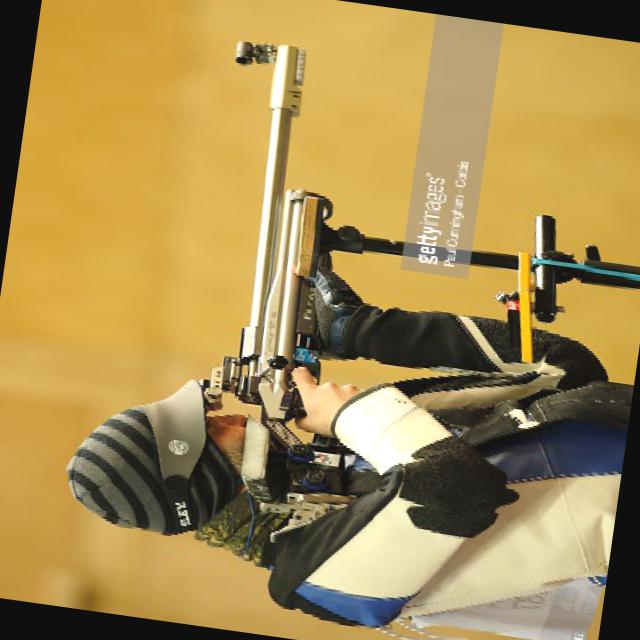long weapon: (165, 29, 398, 522)
